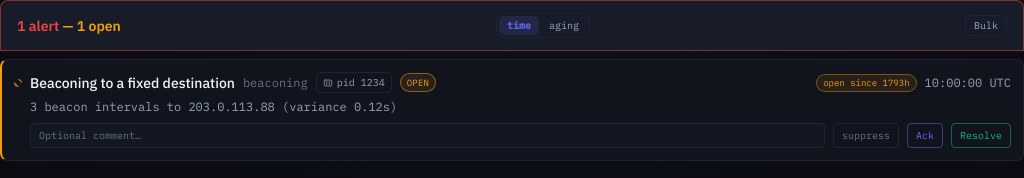
Test: alert triage lifecycle — run-detail panel › reopen from resolved works on an alert that was never acked (open → resolved → open)
The width and height of the screenshot is (1024, 178).
// Resolve directly from open.
Click the button "Resolve".
click(981, 136)  # box [951, 123, 1011, 148]
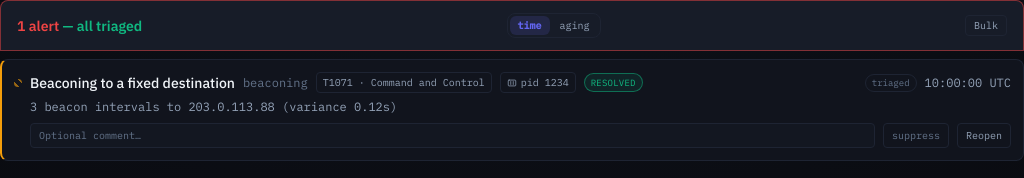
Now the button "Reopen" is shown
// Reopen → back to the open action row.
Click the button "Reopen".
click(984, 136)  # box [957, 123, 1011, 148]
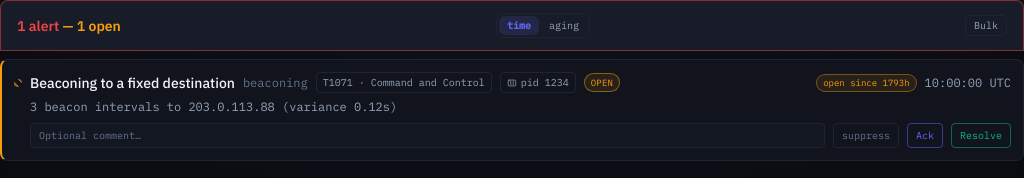
Now the button "Ack" is shown, box [907, 123, 943, 148]
